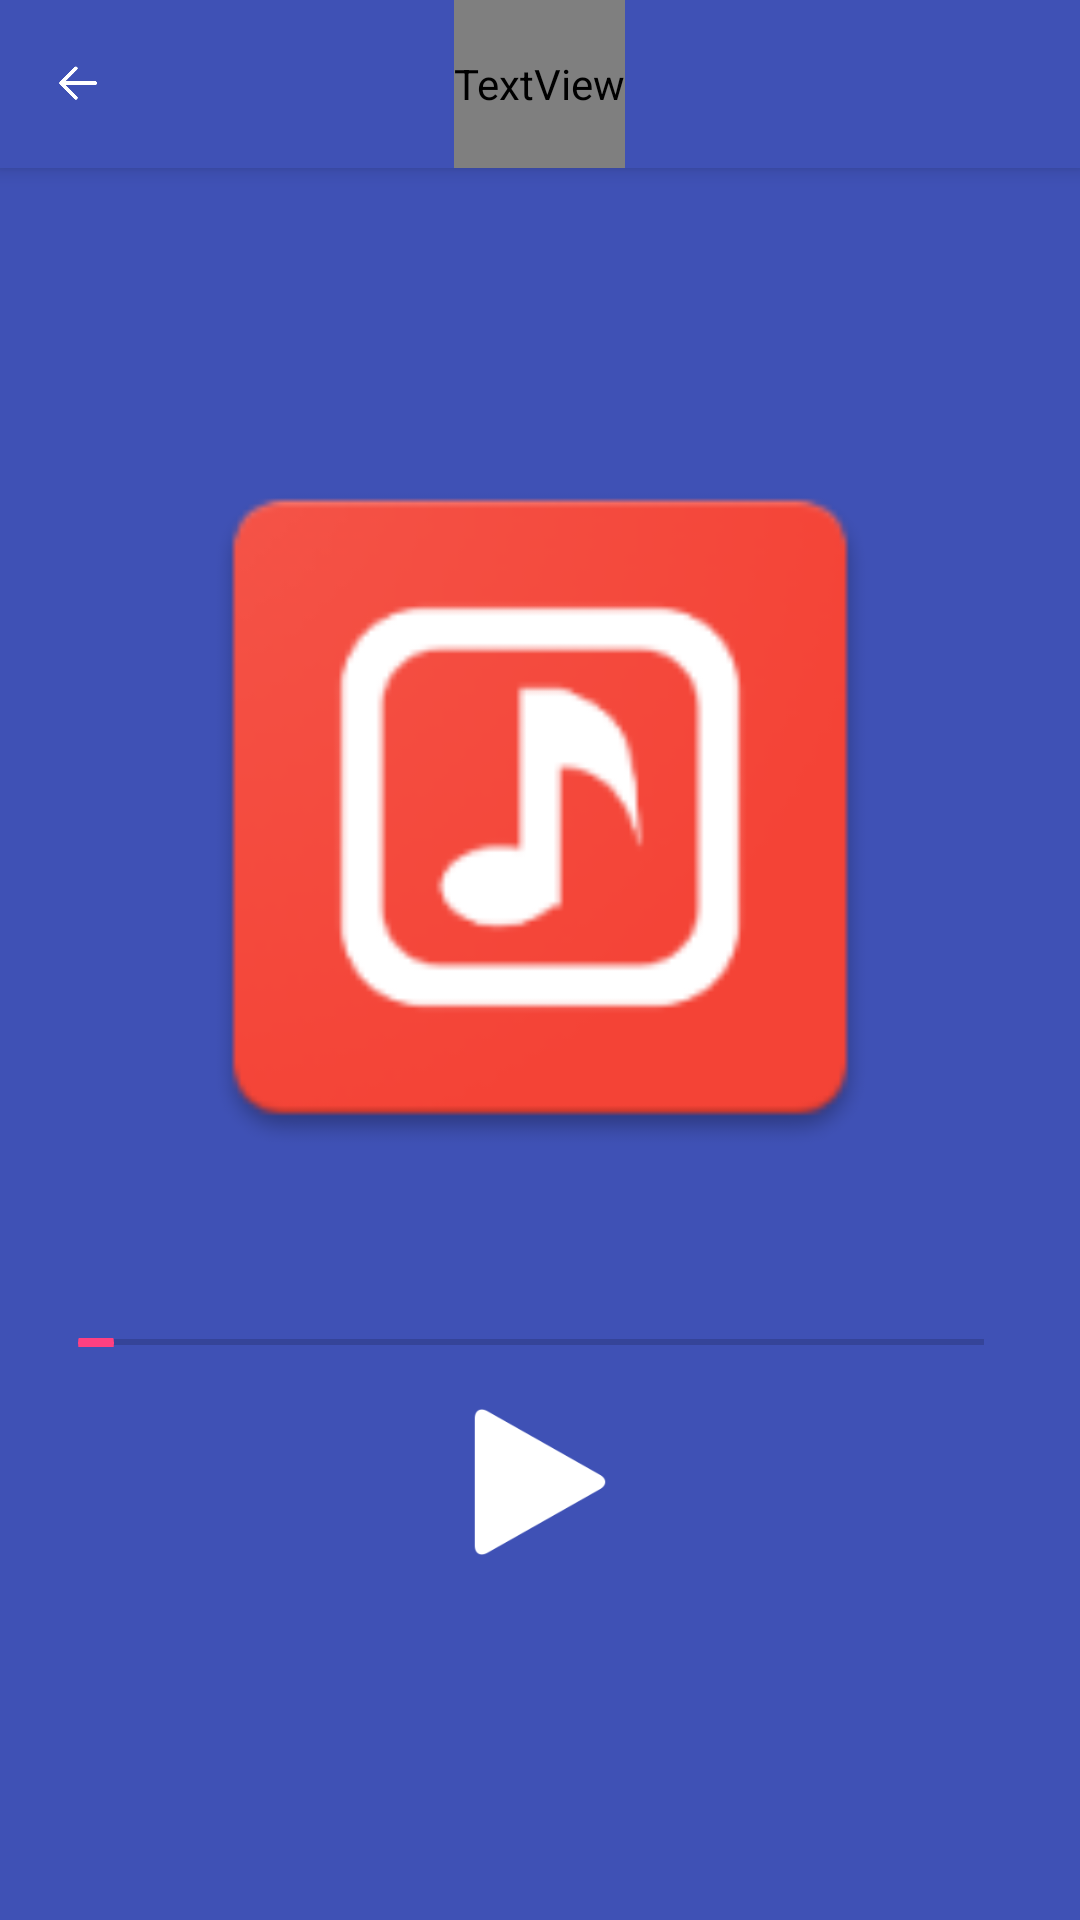

Named icons in this screenshot (1080×1920) and their centers, [x,y]:
back: [78,83]
play: [540,1482]
